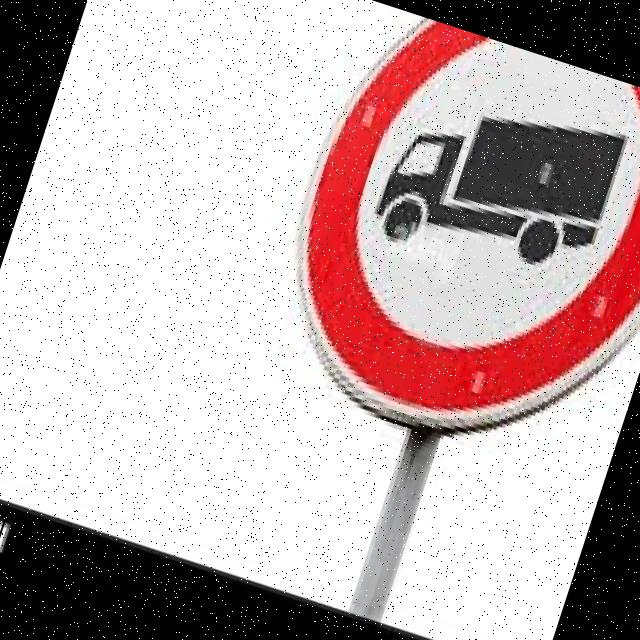do_not_enter: (223, 0, 640, 499)
